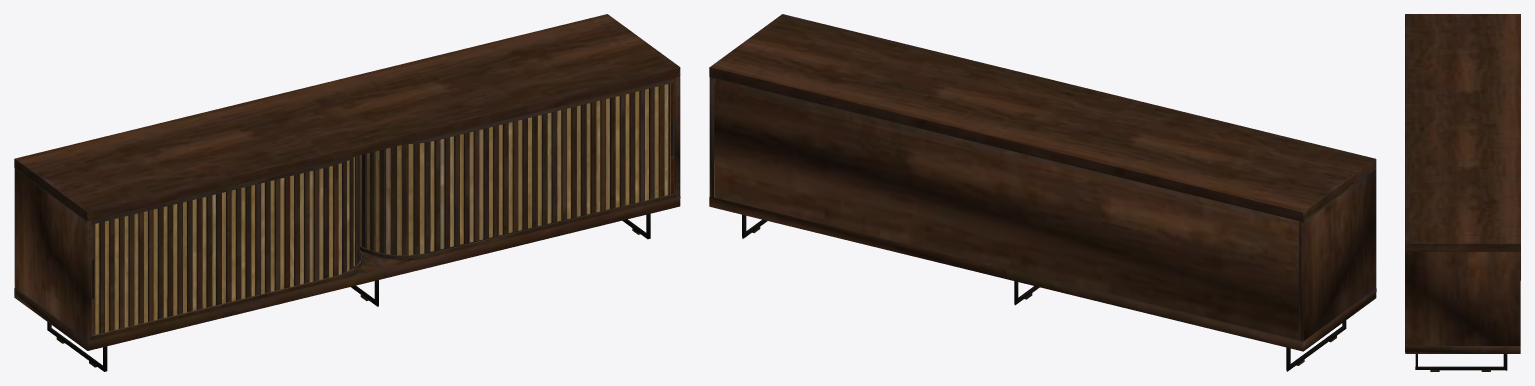
Rendered from modern_wooden_cabinet.l.ef4c2549.glb.
3 views of the same model, side by side, from view 1: azimuth 30°, elevation 25°; view 2: azimuth 150°, elevation 25°; view 3: azimuth 270°, elevation 25° (orthographic). The views are drawn at different scales.
Parts seen in each view (by area): view 1: modern_wooden_cabinet_body, modern_wooden_cabinet_door_r, modern_wooden_cabinet_door_l; view 2: modern_wooden_cabinet_body; view 3: modern_wooden_cabinet_body.
Part boxes in pixels (x1,y1,x2,y2): modern_wooden_cabinet_body: (14, 14, 680, 371); modern_wooden_cabinet_door_r: (360, 82, 674, 255); modern_wooden_cabinet_door_l: (91, 155, 359, 335); modern_wooden_cabinet_body: (709, 14, 1376, 371); modern_wooden_cabinet_body: (1405, 14, 1520, 371).
Size of the model in its own units: 2.44 by 0.6801 by 0.5201.
Materials: 1 (1 with a texture image).
